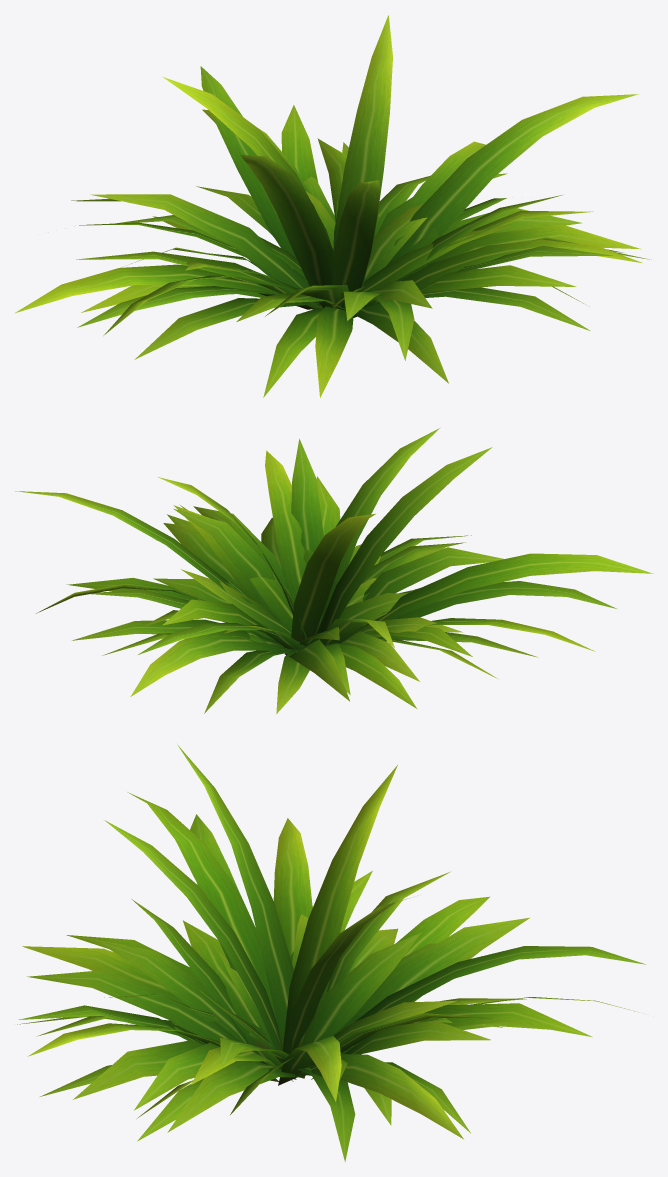
The model's file is IO_Grass_Clump_B.glb.
3 renders of one model, top to bottom at view 1: azimuth 30°, elevation 25°; view 2: azimuth 150°, elevation 25°; view 3: azimuth 270°, elevation 25°, orthographic. The views are drawn at different scales.
Visible parts, largest first — view 1: IO_Grass_Clump_B_LOD0; view 2: IO_Grass_Clump_B_LOD0; view 3: IO_Grass_Clump_B_LOD0.
Part boxes in pixels (left/top/right/bottom): IO_Grass_Clump_B_LOD0: left=15, top=15, right=651, bottom=397; IO_Grass_Clump_B_LOD0: left=15, top=427, right=653, bottom=713; IO_Grass_Clump_B_LOD0: left=17, top=745, right=645, bottom=1162.
Size of what is drawn, in the model's own units: 0.8806 by 0.3074 by 0.7189.
1 material, 1 textured.
